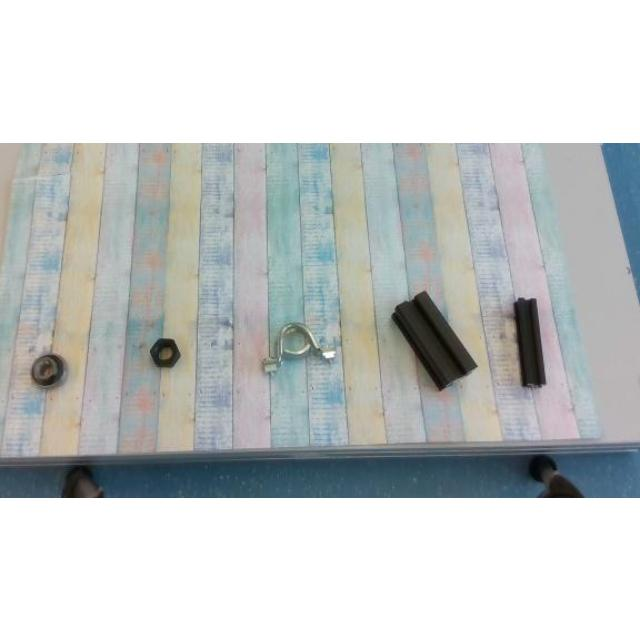Bearing2: (30, 352, 66, 386)
F20_20_B: (514, 296, 544, 386)
Housing: (262, 321, 338, 372)
M20: (150, 338, 180, 367)
S40_40_B: (392, 290, 476, 388)
